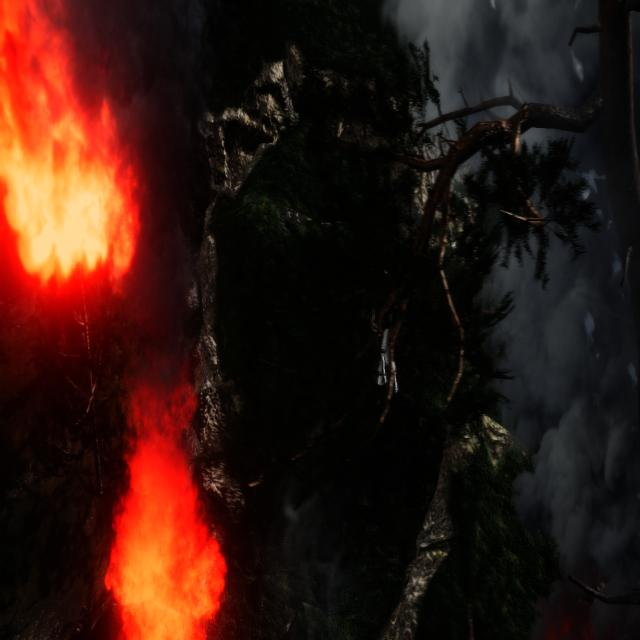Human: (371, 256, 405, 411)
